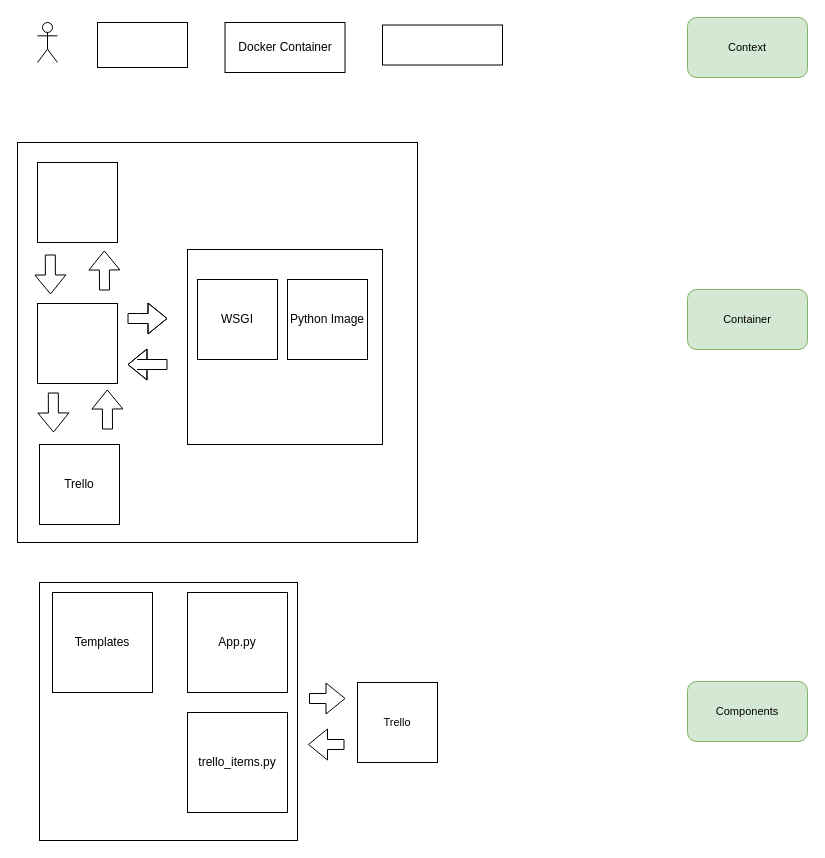
Some shapes in this 825 by 858 pixel diagram are drawn without their labels. The shapes that lost their labels are listed below. From the top down, each one's box as (x1, y1, x2, y2) in pixels, then its label:
(36, 22, 58, 62): Actor
(96, 22, 188, 68): To-Do App
(382, 24, 502, 65): Containerised App
(36, 162, 118, 242): Application
(36, 302, 118, 384): Gunicorn
